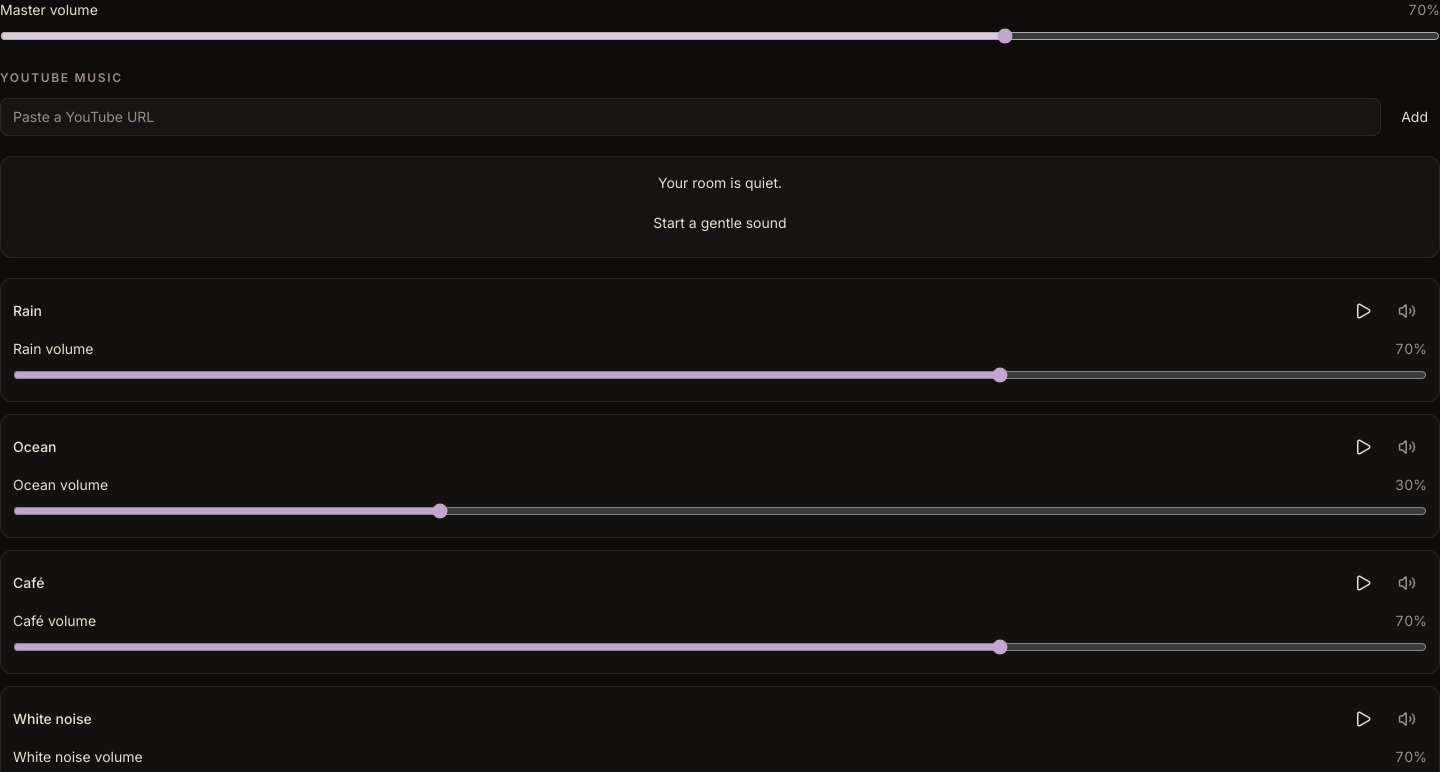
it: AudioPanel › validates, adds, and removes a YouTube music video
Type "https://evil.example/video" into the field named "YouTube Music URL" at (691, 117), box x1=0 y1=98 x2=1381 y2=136
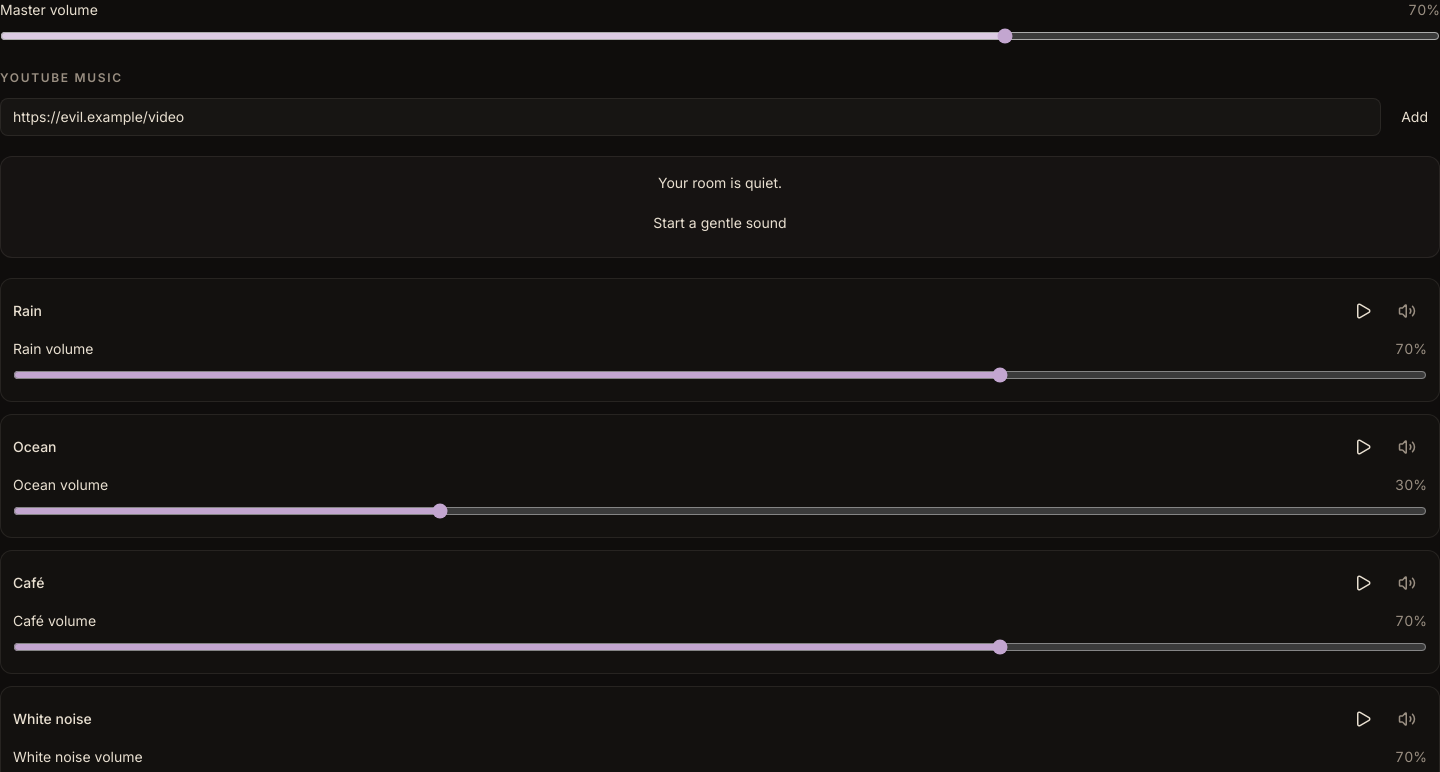
Click the button "Add" at (1415, 117), box x1=1389 y1=98 x2=1439 y2=136
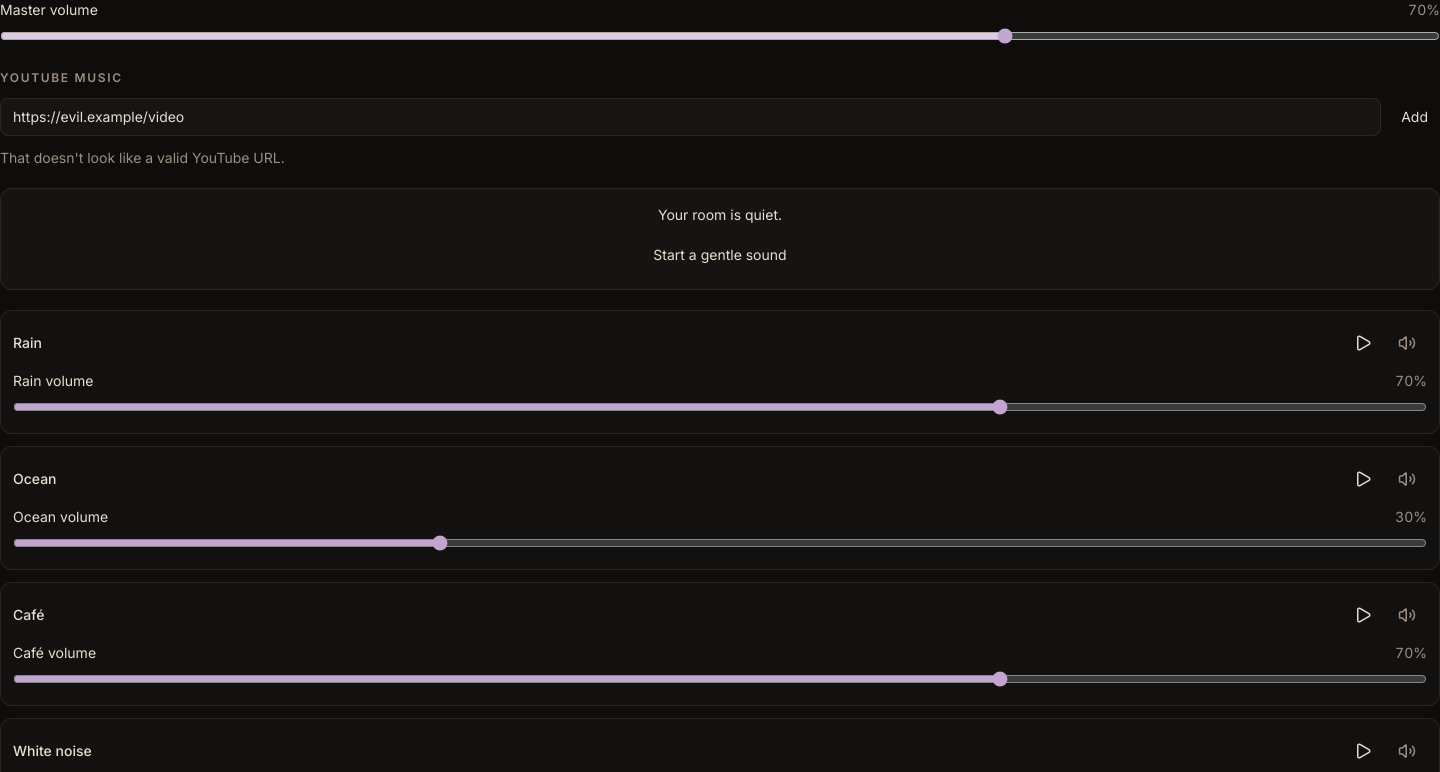
Expected: the message reads "That doesn't look like a valid YouTube URL.", x1=0 y1=149 x2=285 y2=166
Replace the text in the field named "YouTube Music URL" with "https://youtu.be/Abc_def-123" at (691, 117), box x1=0 y1=98 x2=1381 y2=136
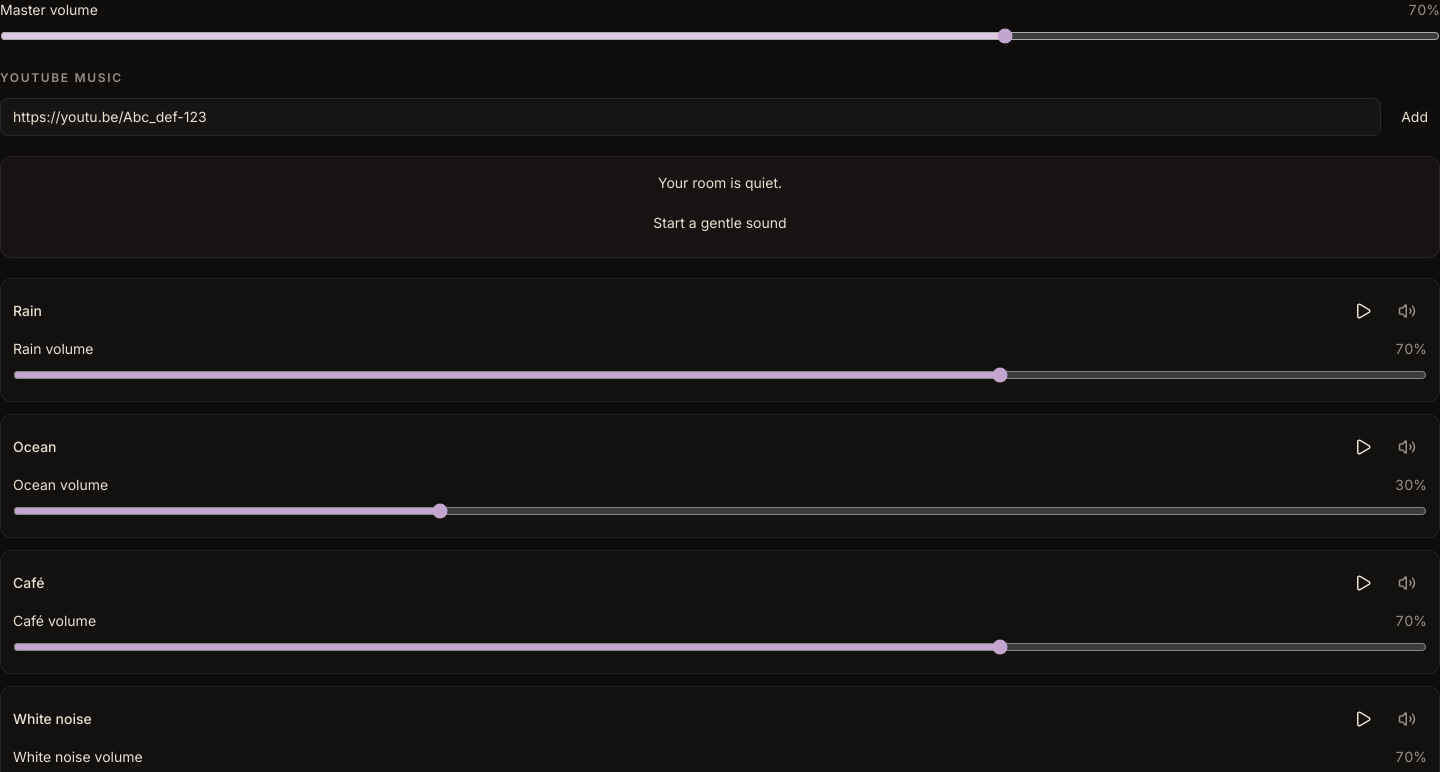
Click the button "Add" at (1415, 117), box x1=1389 y1=98 x2=1439 y2=136
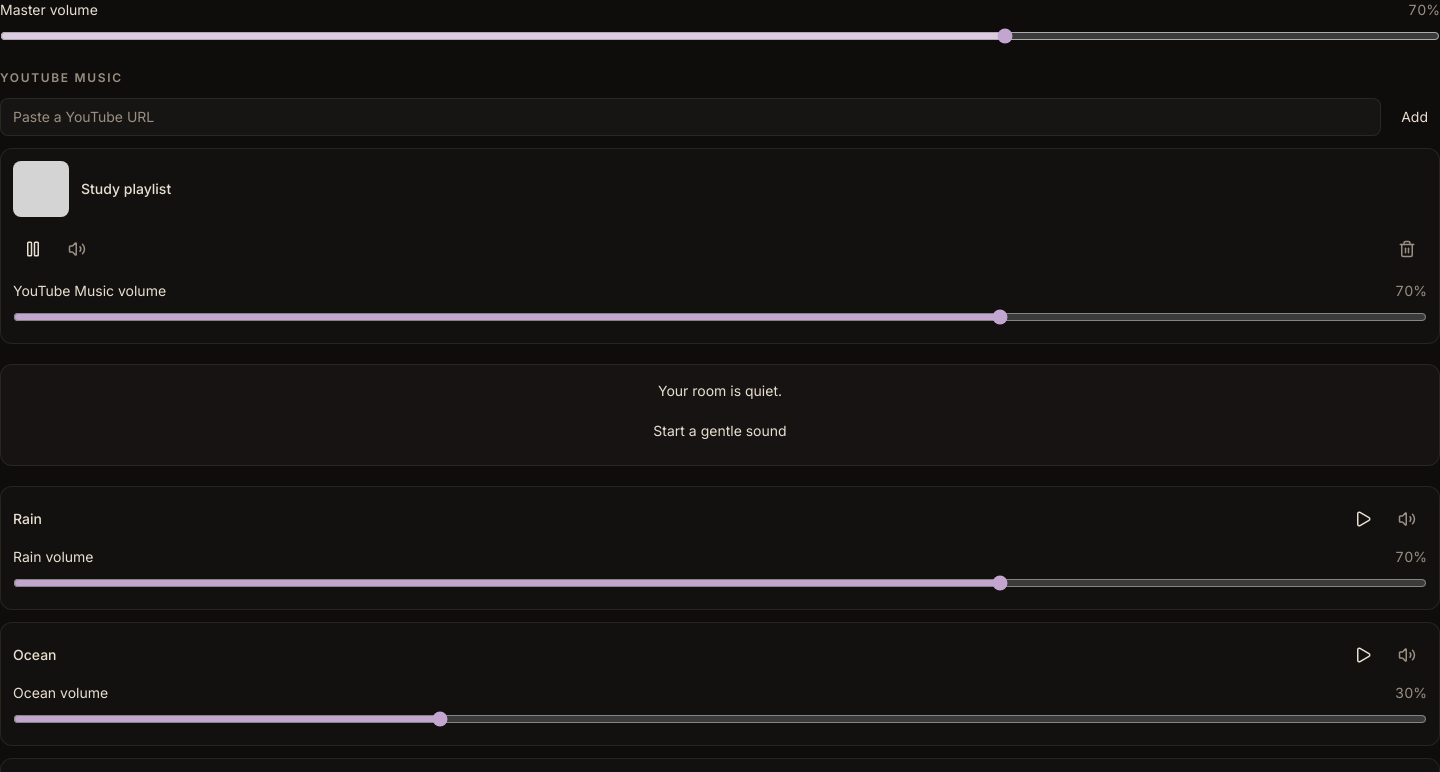
Expected: the text "Study playlist" is shown, x1=81 y1=179 x2=171 y2=199
Click the button named "Remove YouTube Music" at (1407, 249), box x1=1387 y1=229 x2=1427 y2=269
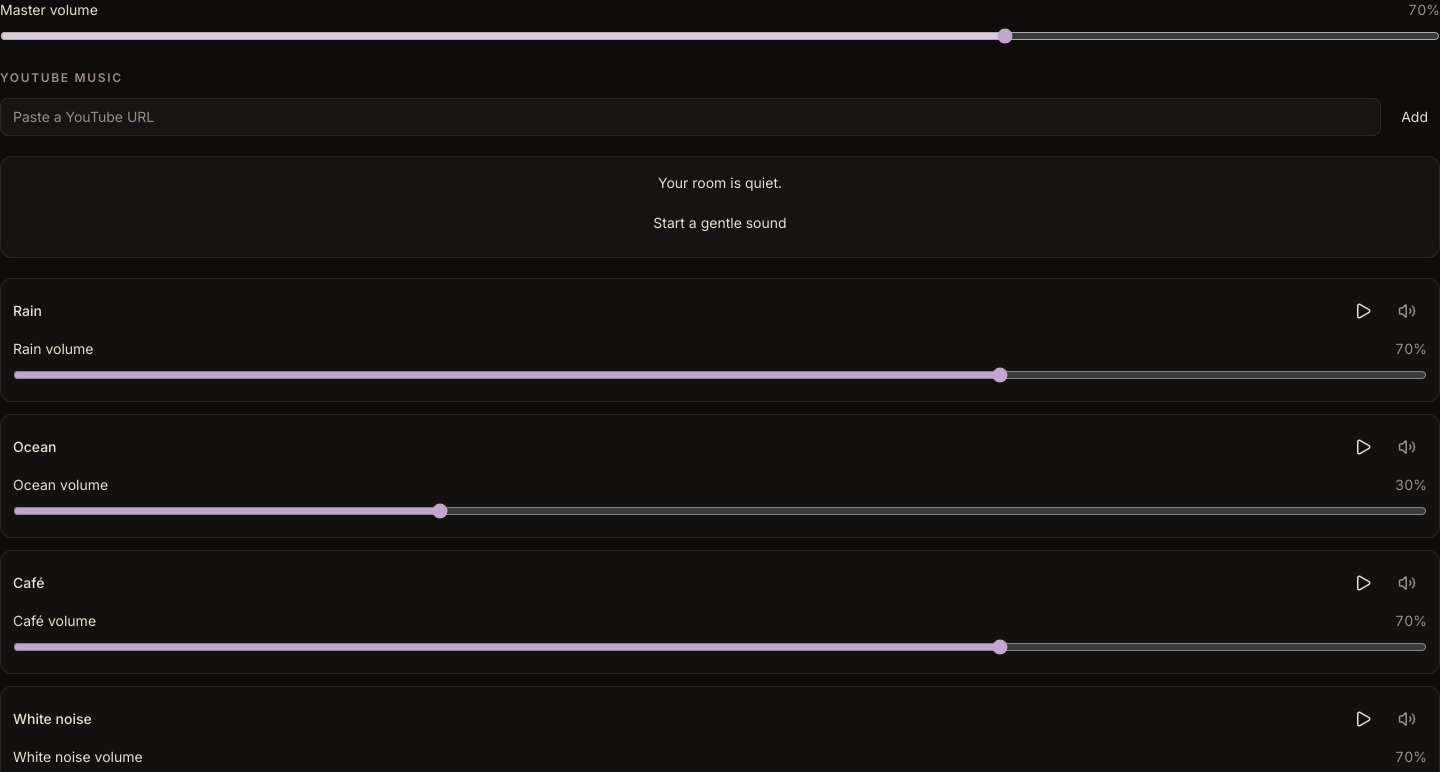
Expected: the text "Study playlist" is gone
